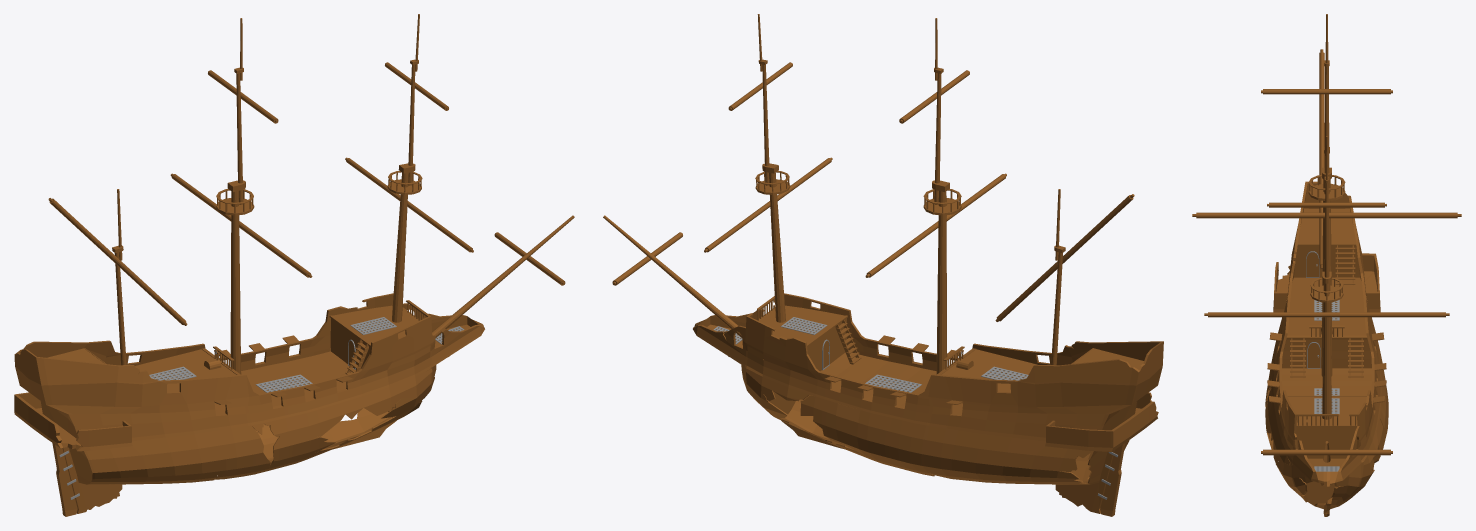
The model's file is ship connected.fbx.
3 views of the same model, side by side, from view 1: azimuth 30°, elevation 25°; view 2: azimuth 150°, elevation 25°; view 3: azimuth 270°, elevation 25° (orthographic). The views are drawn at different scales.
Visible parts, largest first — view 1: Cube, Cylinder, Cylinder.007, Cylinder.012, Cylinder.005; view 2: Cube, Cylinder, Cylinder.007, Cylinder.012, Cylinder.005; view 3: Cube, Cylinder, Cylinder.007, Cylinder.005, Cylinder.012.
Boxes of the visible parts, <box> form: Cube: <box>14,293,484,516</box>; Cylinder: <box>170,18,312,371</box>; Cylinder.007: <box>345,14,473,308</box>; Cylinder.012: <box>48,189,187,365</box>; Cylinder.005: <box>436,215,574,336</box>; Cube: <box>693,293,1163,516</box>; Cylinder: <box>865,18,1006,360</box>; Cylinder.007: <box>704,14,832,305</box>; Cylinder.012: <box>995,189,1134,365</box>; Cylinder.005: <box>603,215,740,336</box>; Cube: <box>1265,181,1388,516</box>; Cylinder: <box>1192,14,1461,353</box>; Cylinder.007: <box>1204,136,1449,408</box>; Cylinder.005: <box>1261,441,1392,461</box>; Cylinder.012: <box>1319,49,1329,268</box>.
Bounding box in the file's own units: 278 × 219 × 122.
